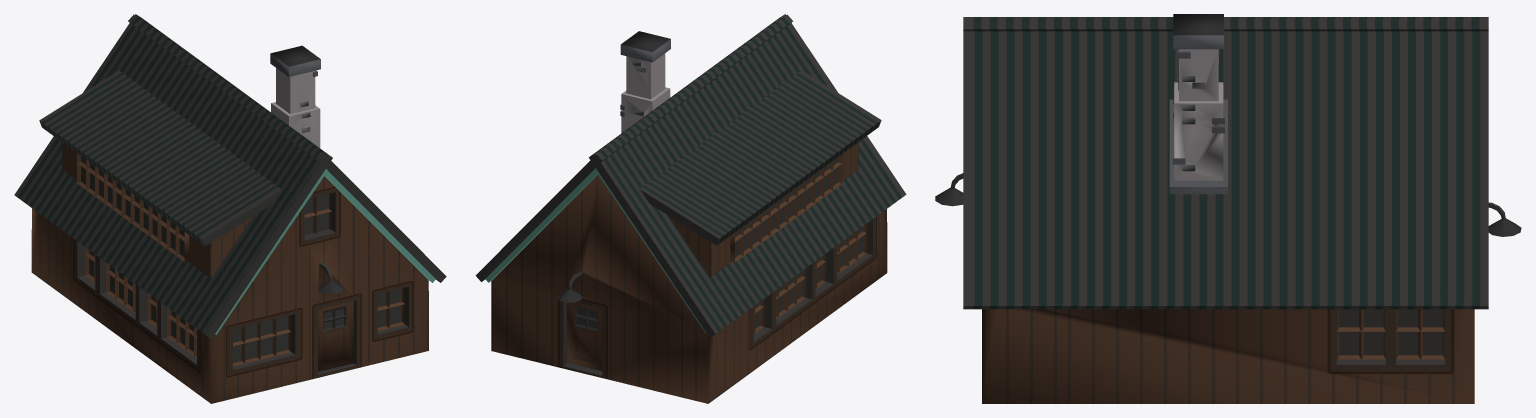
File: decimatedCabin0.8.glb
The picture shows the model from 3 angles, left to right: view 1: azimuth 30°, elevation 25°; view 2: azimuth 150°, elevation 25°; view 3: azimuth 270°, elevation 25°; orthographic projection. The views are drawn at different scales.
Visible parts, largest first — view 1: Cabin.002; view 2: Cabin.002; view 3: Cabin.002.
Boxes of the visible parts, box(x1,y1,x2,y2) form: Cabin.002: box(14, 14, 446, 403); Cabin.002: box(475, 14, 906, 403); Cabin.002: box(935, 14, 1521, 403).
Size of the model in its own units: 0.1219 by 0.1208 by 0.1873.
Materials: 1 (1 with a texture image).
